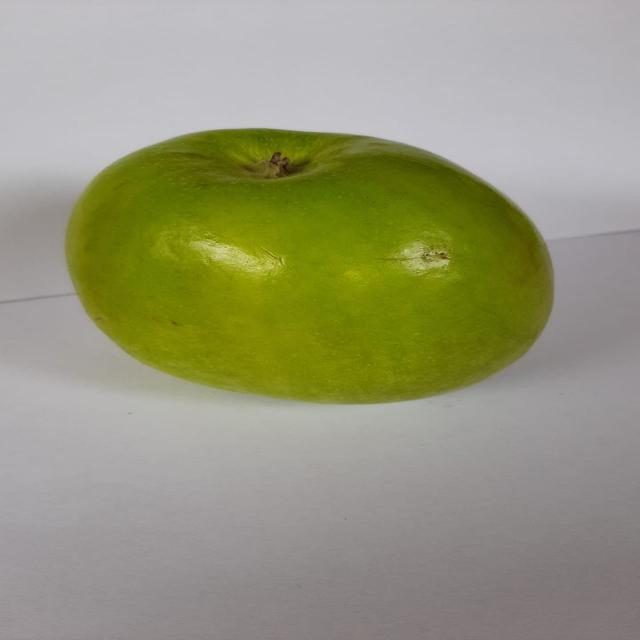50-_ripeness: (49, 114, 580, 418)
